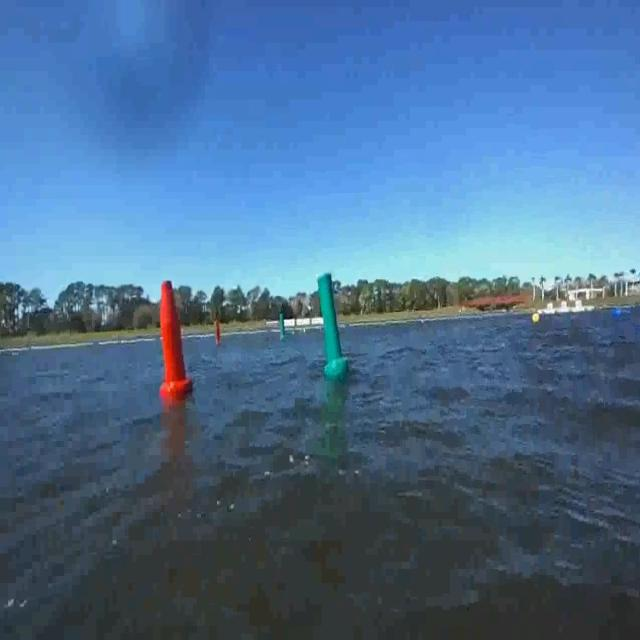blue-buoy: (614, 304, 624, 322)
green-buoy: (327, 357, 349, 384)
green-column-buoy: (316, 269, 348, 376), (279, 312, 287, 340)
red-column-buoy: (158, 278, 192, 401), (215, 319, 222, 344)
yellow-buoy: (534, 309, 543, 324)
